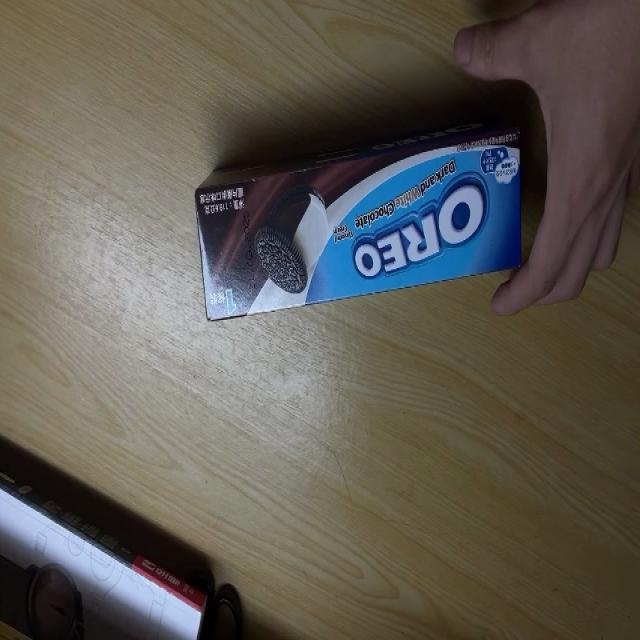Oreo: (192, 120, 524, 323)
